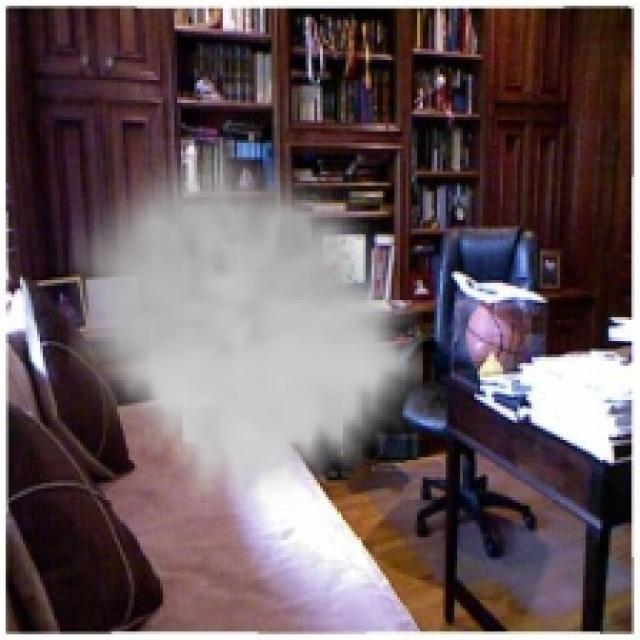Smoke: (68, 137, 423, 514)
